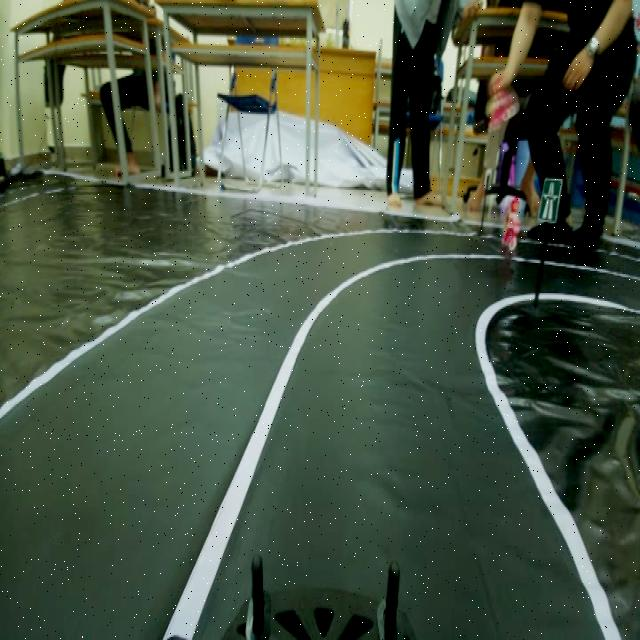highway_entry: (542, 171, 563, 228)
